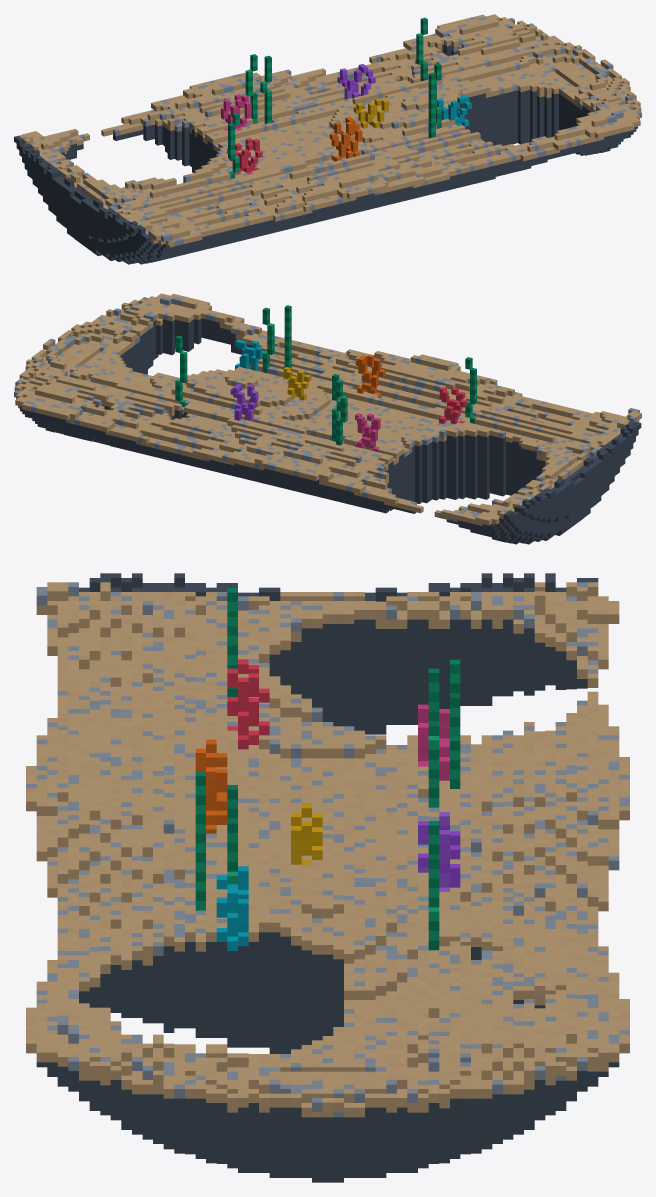
File: seabed.glb
3 renders of one model, top to bottom at view 1: azimuth 30°, elevation 25°; view 2: azimuth 150°, elevation 25°; view 3: azimuth 270°, elevation 25°, orthographic. The views are drawn at different scales.
Visible parts, largest first — view 1: VoxelSeabed; view 2: VoxelSeabed; view 3: VoxelSeabed.
Boxes of the visible parts, box(x1,y1,x2,y2) form: VoxelSeabed: box(14, 14, 641, 264); VoxelSeabed: box(14, 293, 641, 544); VoxelSeabed: box(26, 573, 629, 1182).
Size of the model in its own units: 6.38 by 1.43 by 3.13.
